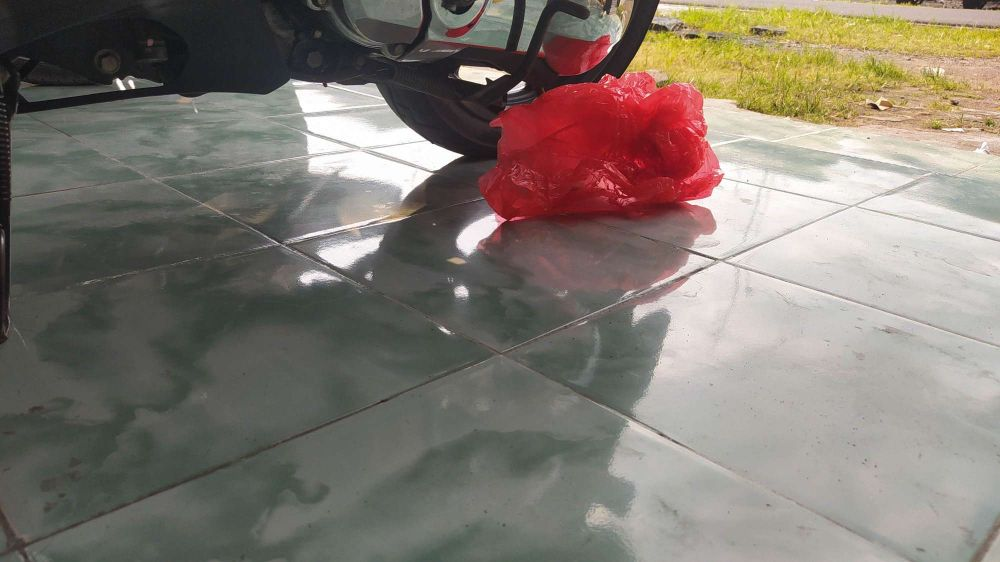plastik: (489, 54, 731, 226)
